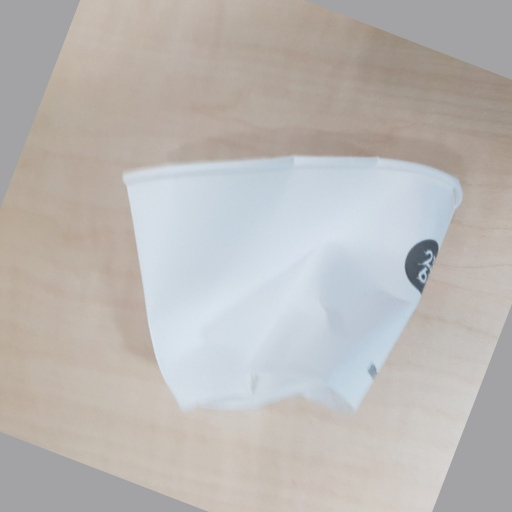Paper_1: (118, 151, 461, 414)
